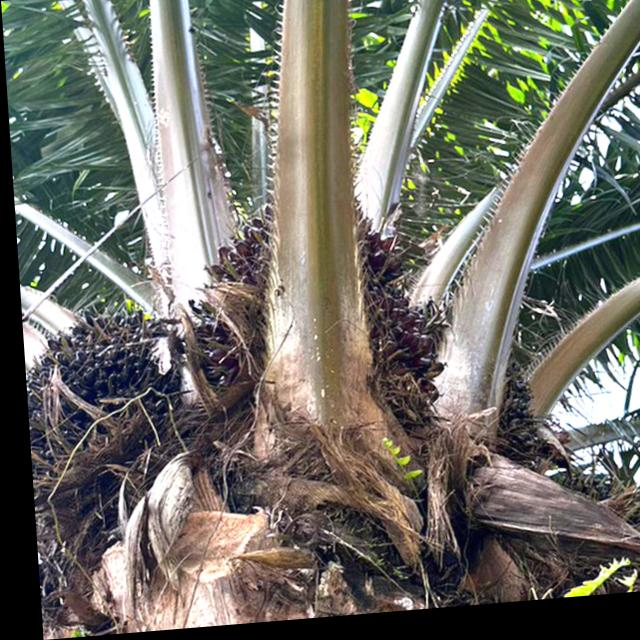ripe: (165, 173, 452, 450)
